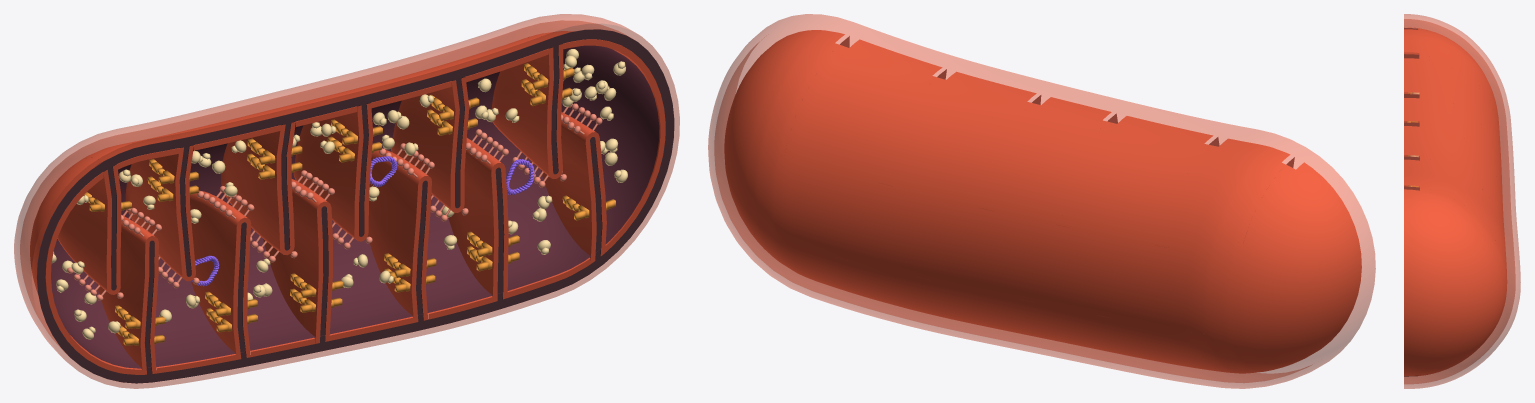
File: mitocondria.glb
3 views of the same model, side by side, from view 1: azimuth 30°, elevation 25°; view 2: azimuth 150°, elevation 25°; view 3: azimuth 270°, elevation 25° (orthographic). The views are drawn at different scales.
Parts seen in each view (by area): view 1: cristas, matriz, espaco_intermembranas, membrana_externa, membrana_interna, cadeia_transportadora, ribossomos, atp_sintase, dna_mitocondrial; view 2: membrana_externa, membrana_interna; view 3: membrana_externa, membrana_interna, espaco_intermembranas.
Boxes of the visible parts, x1,y1,x2,y2 form: cristas: (57, 44, 606, 374); matriz: (51, 45, 659, 368); espaco_intermembranas: (36, 29, 674, 383); membrana_externa: (14, 14, 679, 388); membrana_interna: (30, 31, 665, 374); cadeia_transportadora: (83, 63, 615, 345); ribossomos: (51, 49, 627, 339); atp_sintase: (67, 103, 602, 300); dna_mitocondrial: (191, 156, 534, 286); membrana_externa: (708, 14, 1375, 388); membrana_interna: (724, 30, 1361, 373); membrana_externa: (1404, 14, 1520, 388); membrana_interna: (1404, 27, 1507, 375); espaco_intermembranas: (1404, 28, 1481, 376).
Size of the model in its own units: 2.19 by 0.8821 by 0.4393.
